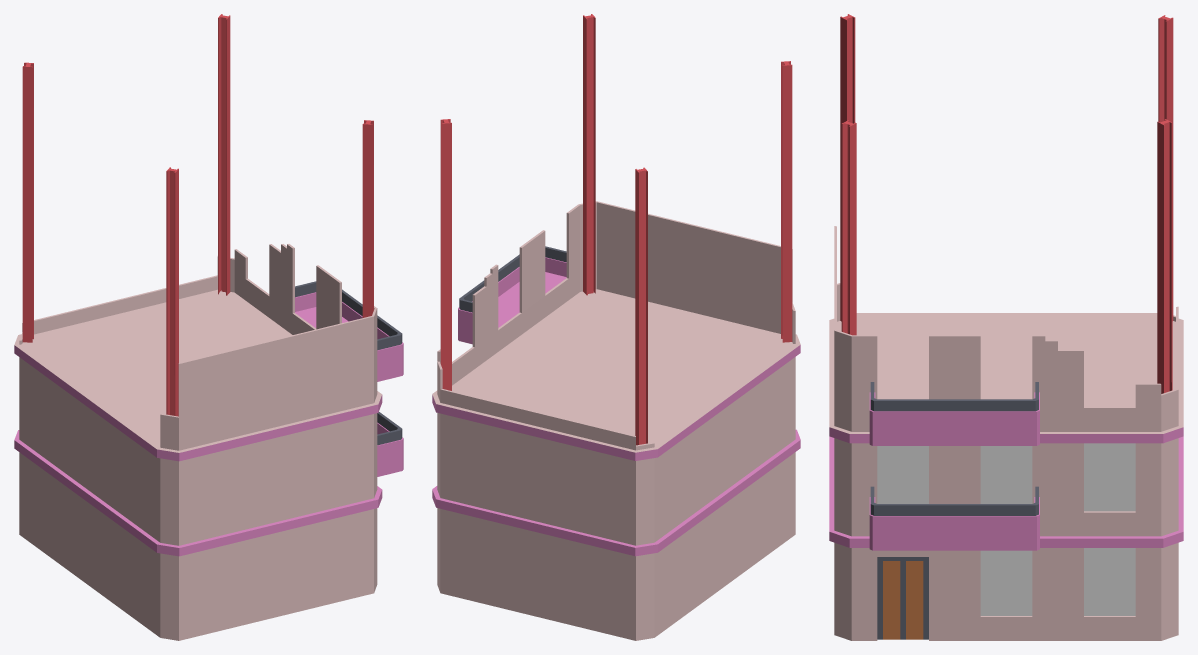
3 renders of one model, left to right at view 1: azimuth 30°, elevation 25°; view 2: azimuth 150°, elevation 25°; view 3: azimuth 270°, elevation 25°, orthographic. The views are drawn at different scales.
Parts seen in each view (by area): view 1: Predio 8 A.003; view 2: Predio 8 A.003; view 3: Predio 8 A.003.
Part boxes in pixels (<box>): Predio 8 A.003: <box>14,14,403,640</box>; Predio 8 A.003: <box>432,14,800,640</box>; Predio 8 A.003: <box>829,14,1183,640</box>.
Bounding box in the file's own units: 5694 × 9868 × 6180.
